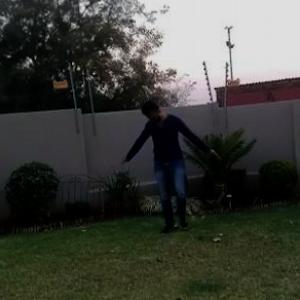land: (107, 90, 215, 246)
